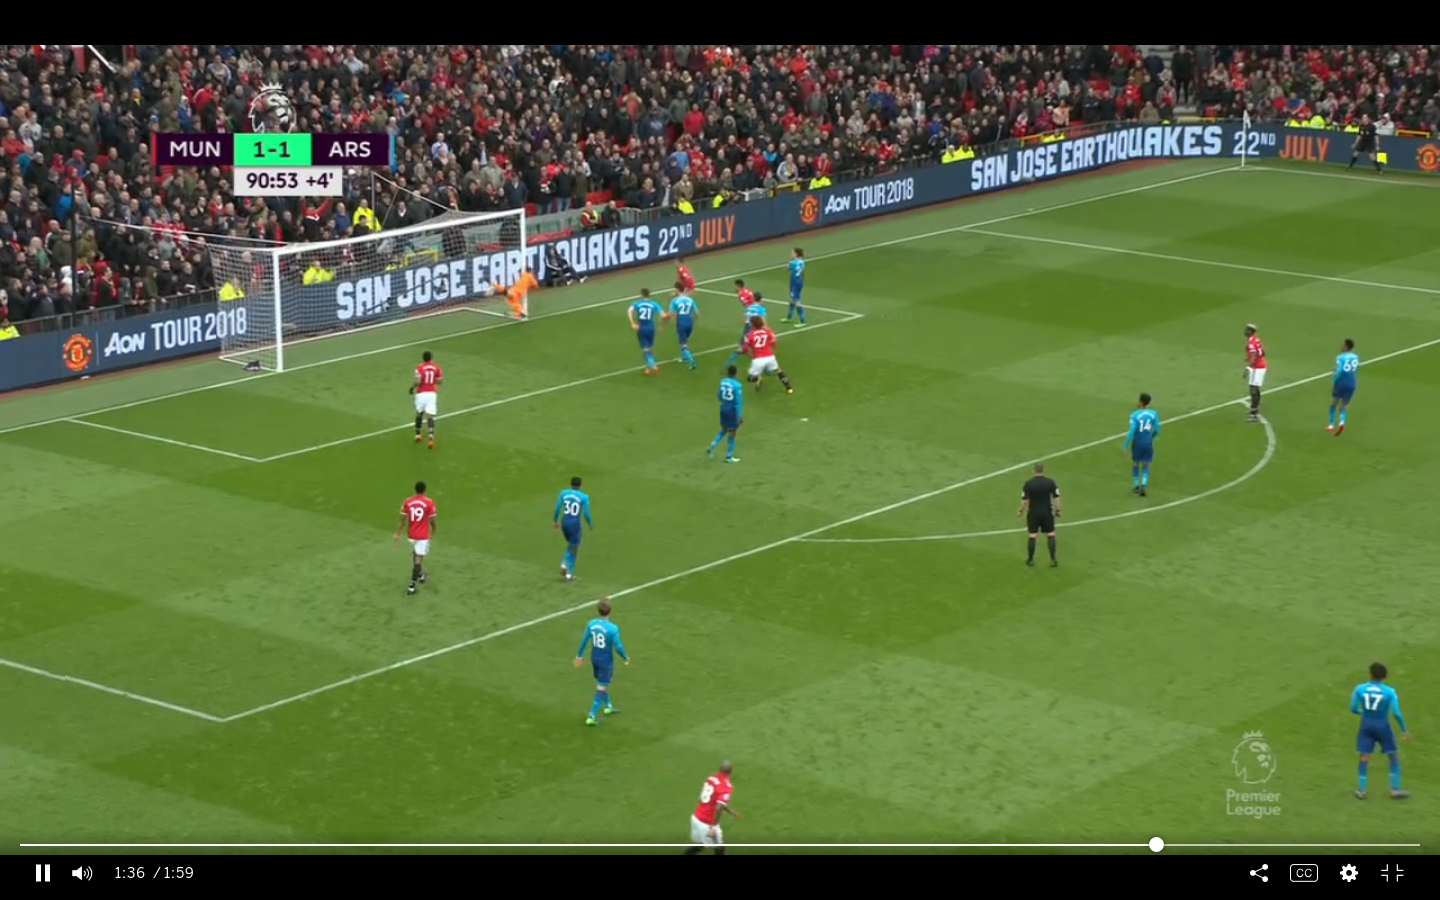referee: (1015, 462, 1072, 572)
soccer player: (1344, 660, 1415, 809), (568, 596, 632, 729), (393, 482, 445, 600), (548, 472, 599, 588), (685, 762, 738, 857), (1322, 336, 1365, 446), (1124, 386, 1164, 500), (404, 348, 447, 454), (705, 365, 748, 468), (624, 288, 667, 380), (1238, 320, 1272, 426), (668, 286, 707, 376), (741, 319, 787, 396), (485, 268, 542, 329), (785, 245, 810, 331)
